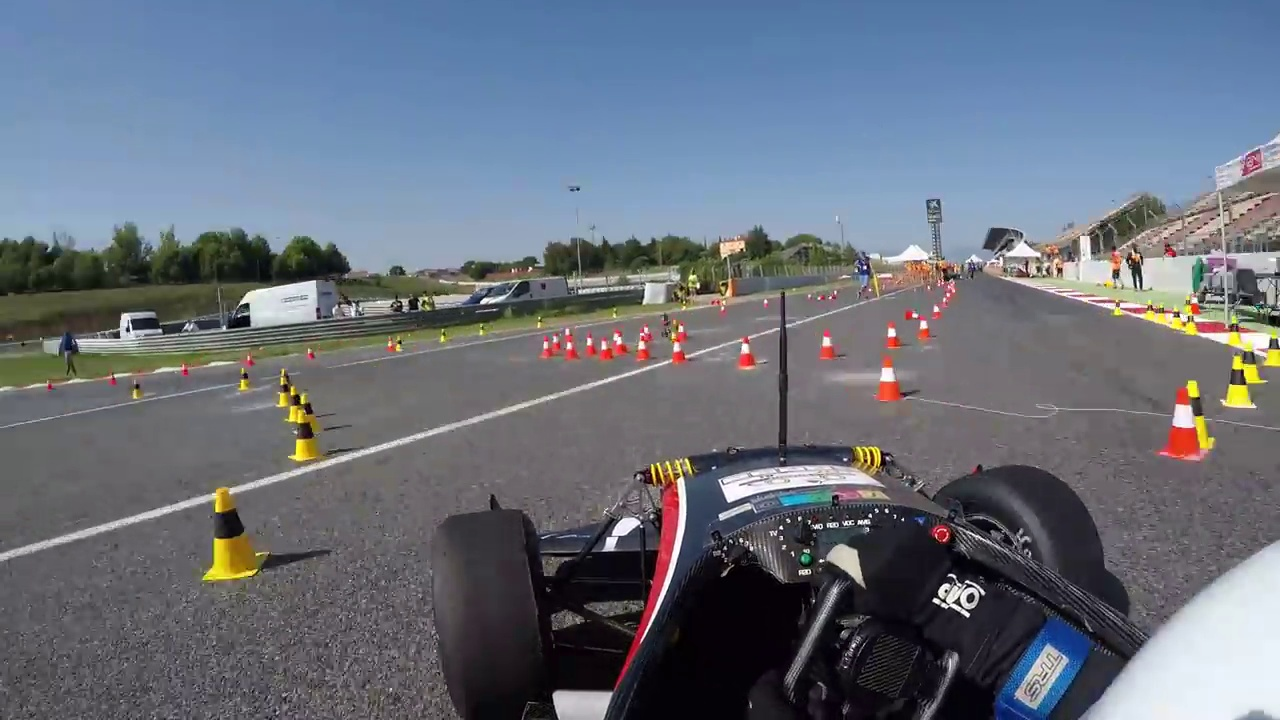Cone: (206, 486, 263, 581), (1162, 389, 1204, 463), (288, 408, 320, 464), (1225, 354, 1254, 413), (875, 353, 900, 403), (818, 327, 840, 362), (736, 330, 756, 367), (632, 334, 653, 363), (667, 334, 688, 363), (599, 335, 616, 362), (582, 331, 599, 358), (563, 335, 580, 362), (547, 328, 564, 355)
